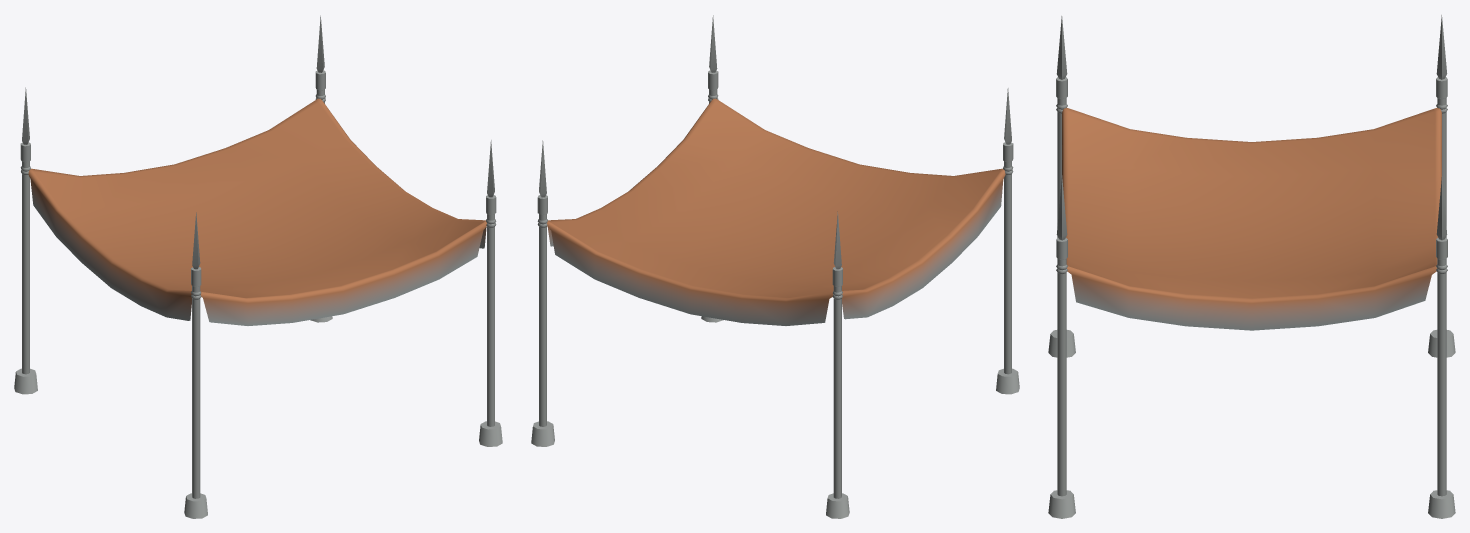
3 views of the same model, side by side, from view 1: azimuth 30°, elevation 25°; view 2: azimuth 150°, elevation 25°; view 3: azimuth 270°, elevation 25° (orthographic). The views are drawn at different scales.
Parts seen in each view (by area): view 1: G:\FFXIV-MapTools\exports\s1f4\bg\ffxiv\sea_s1\fld\common\bg; view 2: G:\FFXIV-MapTools\exports\s1f4\bg\ffxiv\sea_s1\fld\common\bg; view 3: G:\FFXIV-MapTools\exports\s1f4\bg\ffxiv\sea_s1\fld\common\bg.
Part boxes in pixels (x1,y1,x2,y2): G:\FFXIV-MapTools\exports\s1f4\bg\ffxiv\sea_s1\fld\common\bg: (14, 15, 502, 518); G:\FFXIV-MapTools\exports\s1f4\bg\ffxiv\sea_s1\fld\common\bg: (531, 15, 1019, 518); G:\FFXIV-MapTools\exports\s1f4\bg\ffxiv\sea_s1\fld\common\bg: (1048, 15, 1455, 518).
Bounding box in the file's own units: 5.67 × 5.2 × 5.67.
